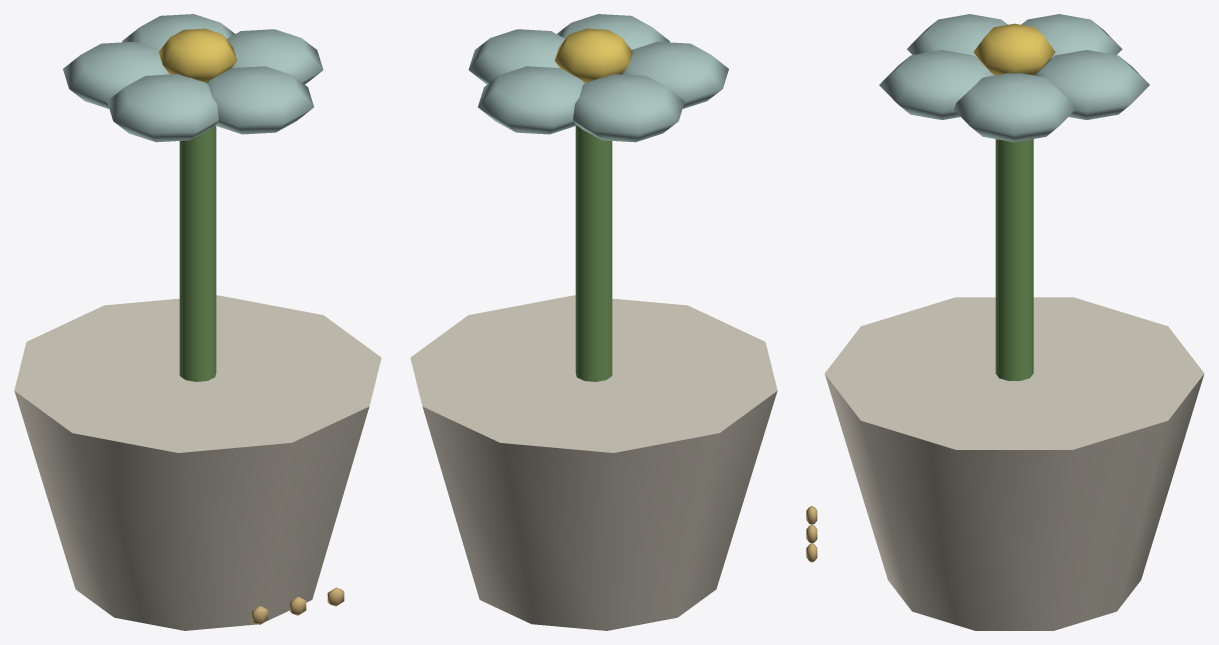
3 views of the same model, side by side, from view 1: azimuth 30°, elevation 25°; view 2: azimuth 150°, elevation 25°; view 3: azimuth 270°, elevation 25° (orthographic).
Parts seen in each view (by area): view 1: g_s08; view 2: g_s08; view 3: g_s08.
Boxes of the visible parts, x1,y1,x2,y2 form: g_s08: (14, 14, 381, 630); g_s08: (410, 14, 777, 630); g_s08: (806, 14, 1204, 630).
Bounding box in the file's own units: 0.2853 × 0.48 × 0.3143.
